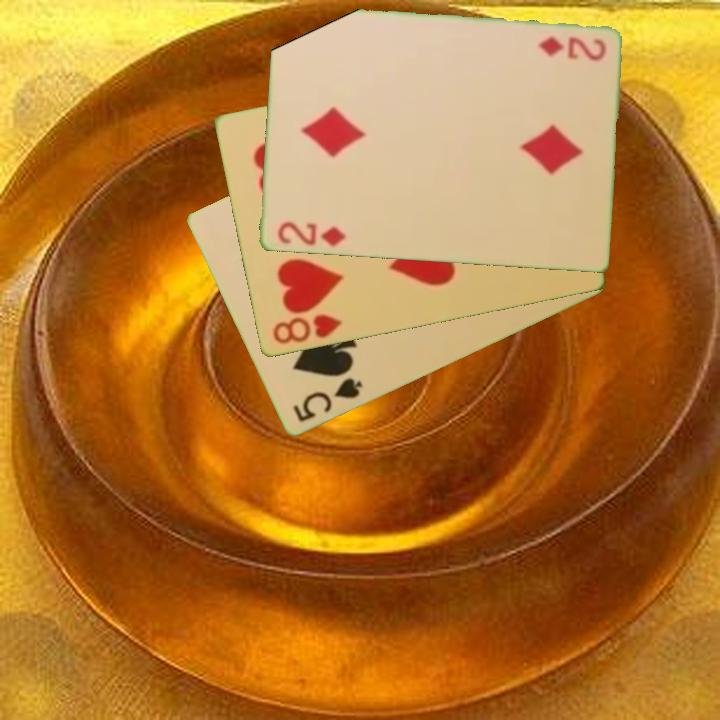2d: (273, 219, 348, 250), (534, 34, 608, 63)
5s: (289, 375, 366, 426)
8h: (268, 310, 345, 348)
